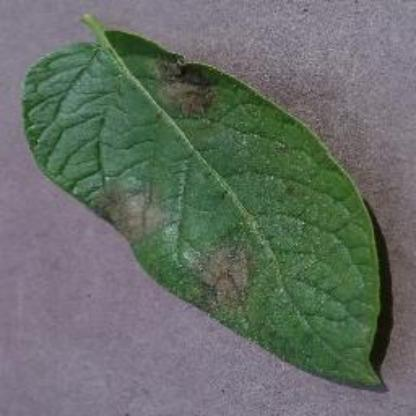Late-Blight: (9, 8, 401, 408)
